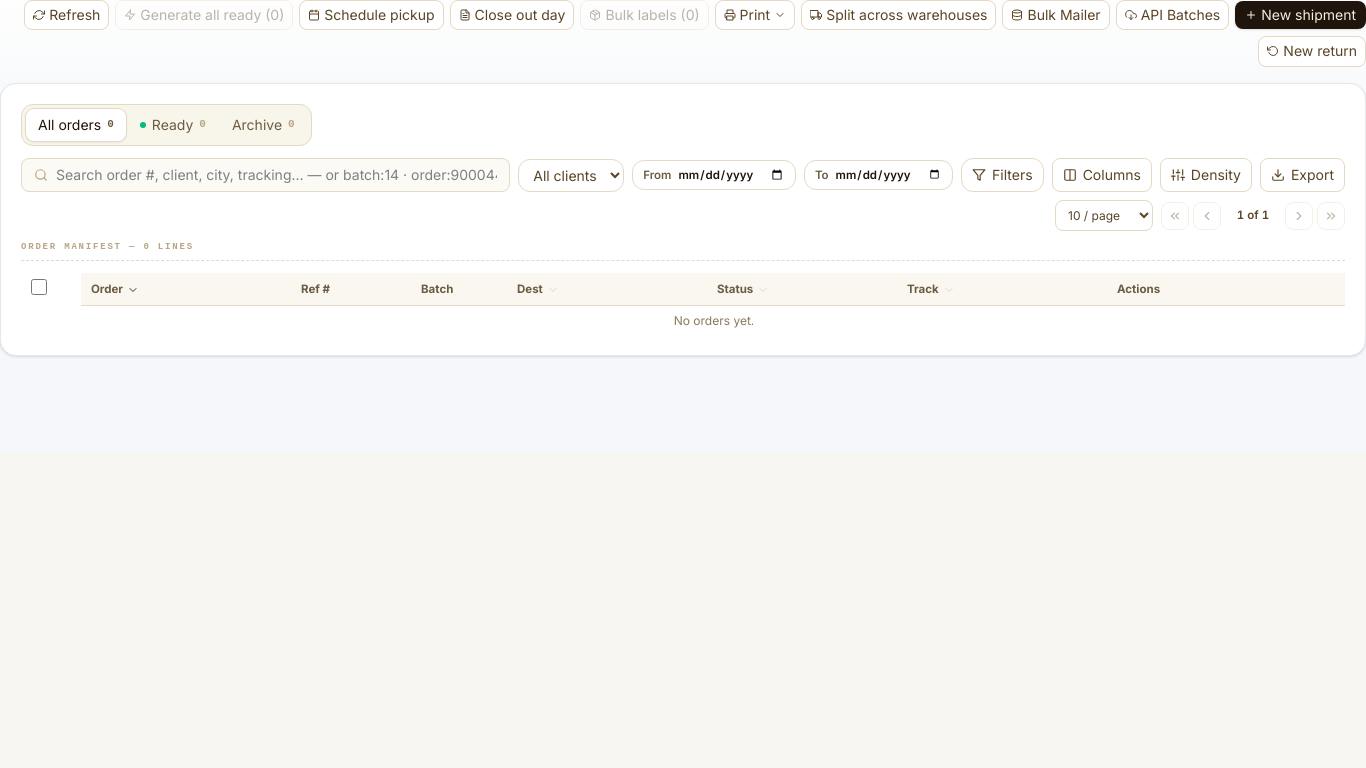
Test: OrdersWorkspace — BUG-012 ship-vs-return filter › picking "Returns only" refetches orders with isReturn=Y and bumps the filter badge
Open Filters popover.
Click the button "Filters".
click(1002, 175)  # box [961,158,1044,192]
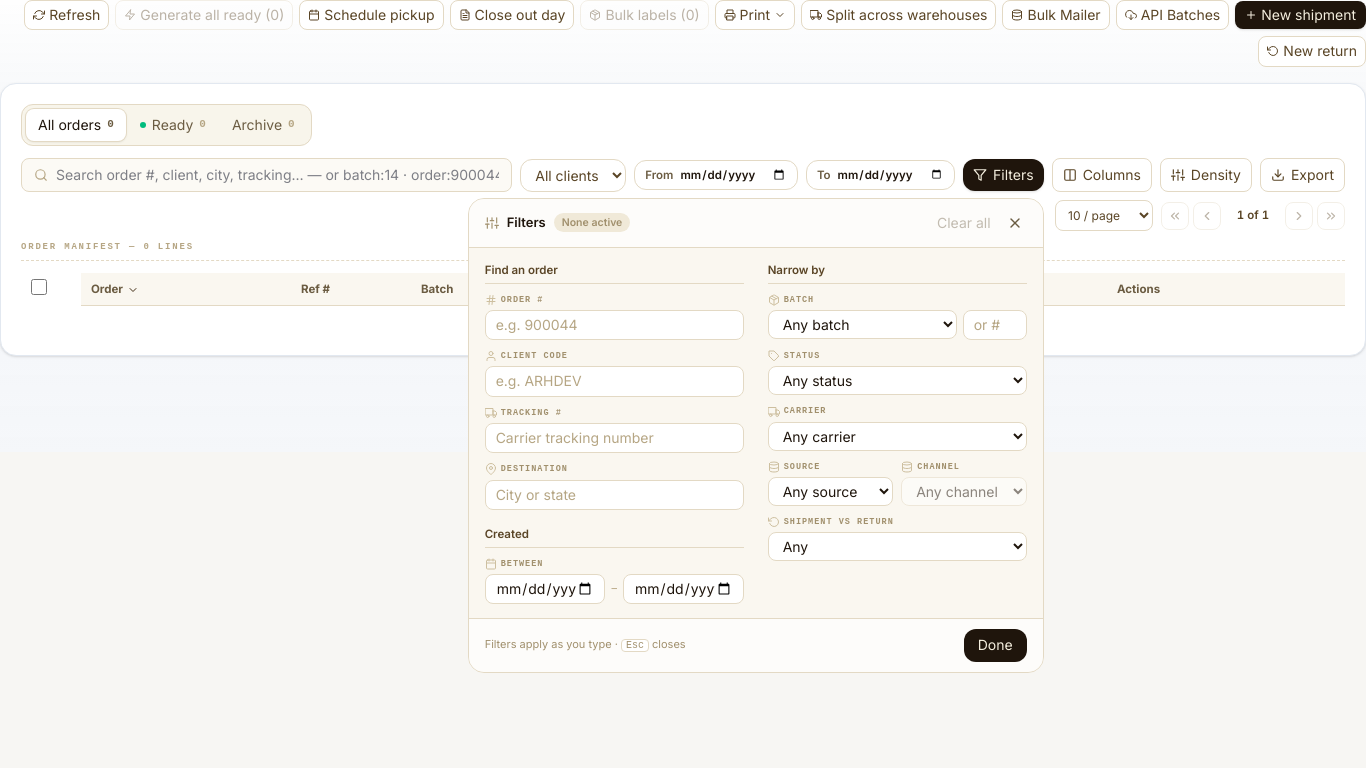
Select "Returns only" in the dropdown showing "Any" at (897,547), box [768,532,1027,561]
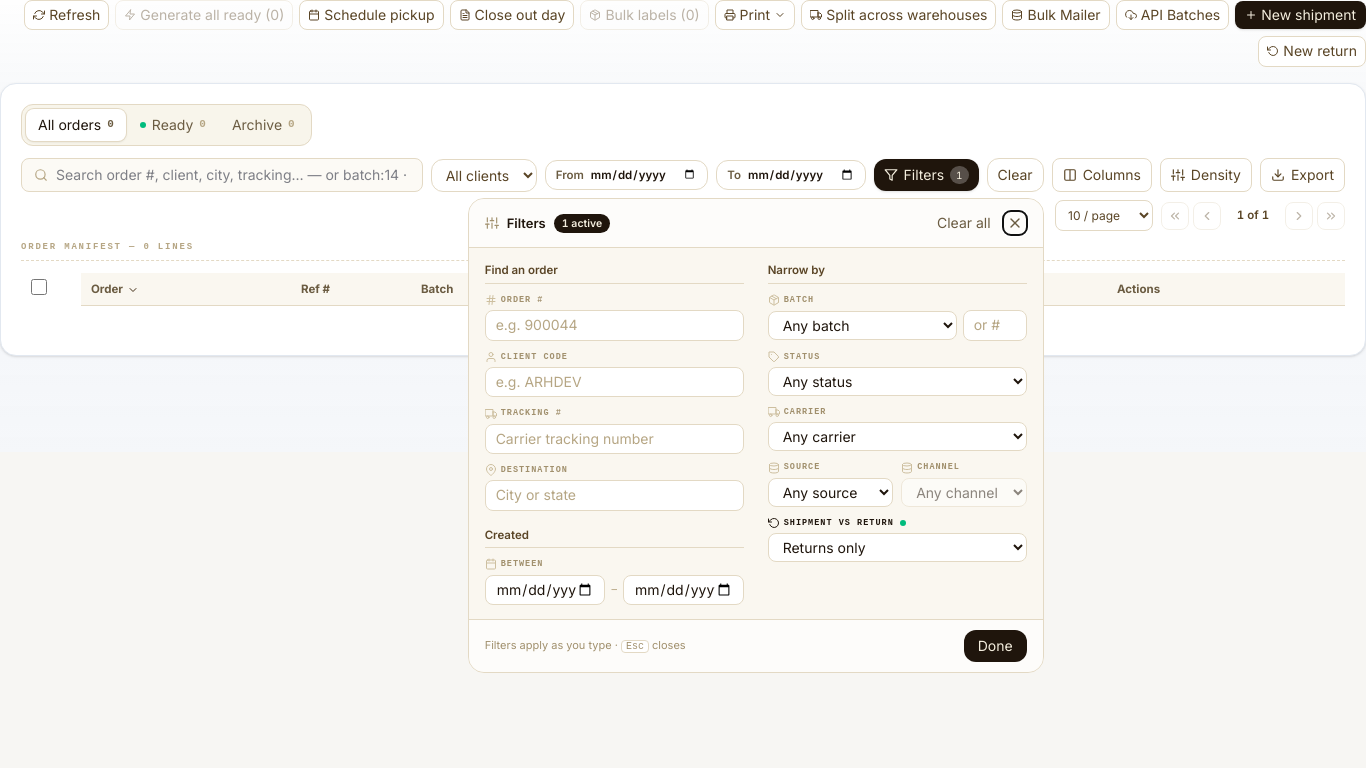
Expected: the button "Filters 1" is shown, [874,159,979,191]
